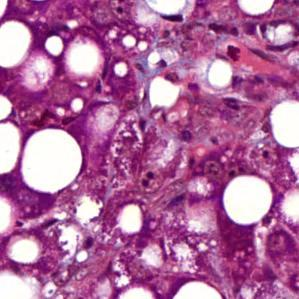steatosis: (16, 131, 78, 191), (222, 174, 273, 227)
